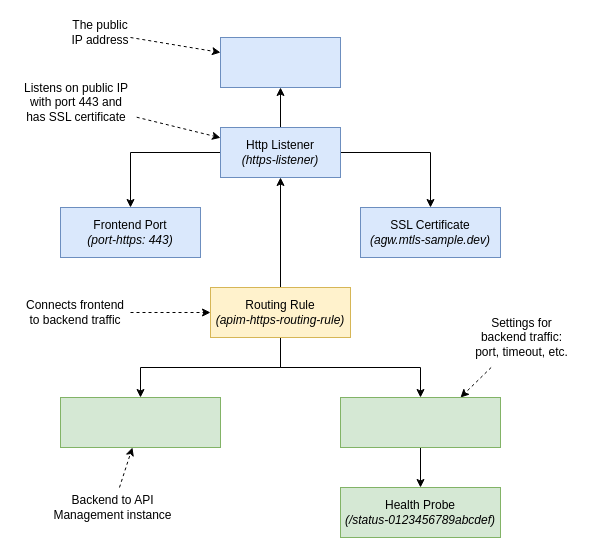
Image size: 591x555. Some labels were removed from this diagram. Here are the shapes that lost their labels. From the top down, the centre of each, then its label:
At point (280, 62): "Frontend IP".
At point (140, 422): "Backend Pool (api management gateway)".
At point (420, 422): "Backend Settings (https, port: 443)".
